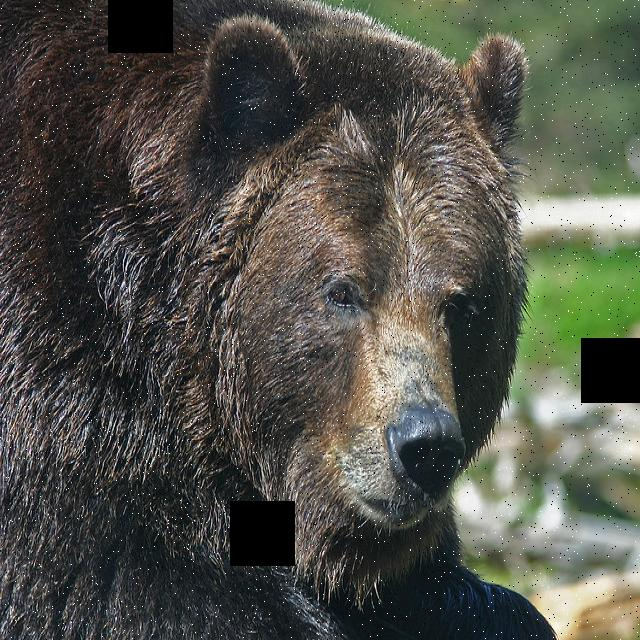Bear: (0, 2, 549, 639)
